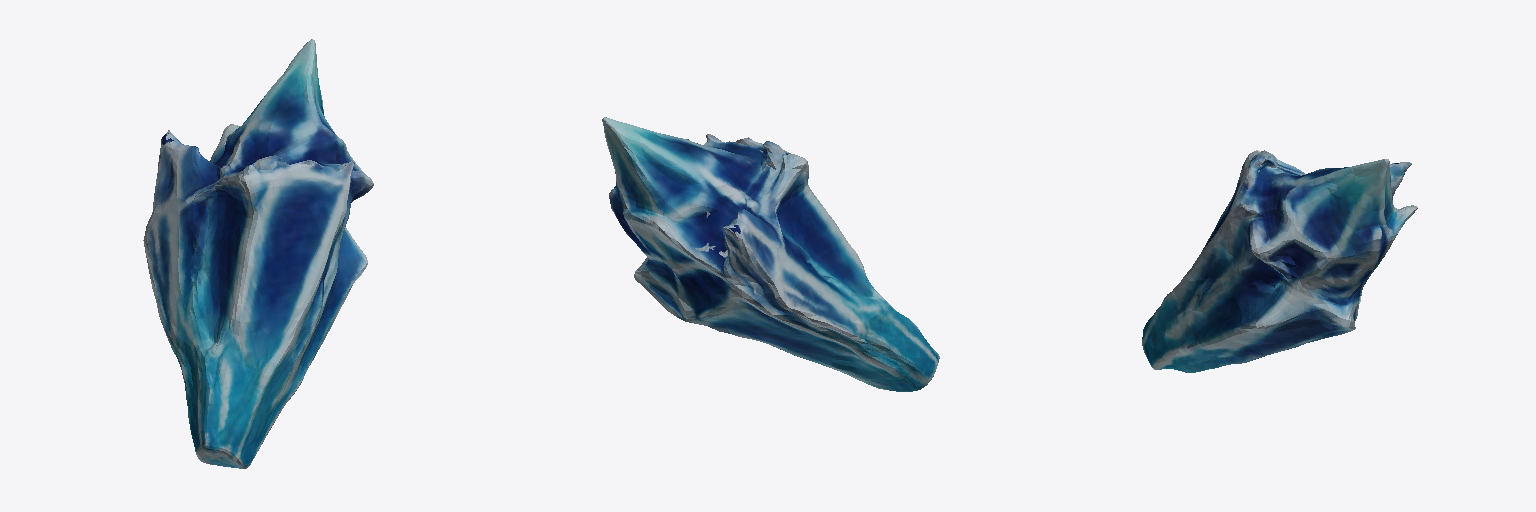
3 views of the same model, side by side, from view 1: azimuth 30°, elevation 25°; view 2: azimuth 150°, elevation 25°; view 3: azimuth 270°, elevation 25° (orthographic).
Parts seen in each view (by area): view 1: mesh; view 2: mesh; view 3: mesh.
Part boxes in pixels (left/top/right/bottom): mesh: left=143, top=39, right=373, bottom=468; mesh: left=602, top=117, right=939, bottom=391; mesh: left=1142, top=150, right=1417, bottom=372.
Bounding box in the file's own units: 0.7779 × 0.9968 × 0.8265.
1 materials, 1 textured.